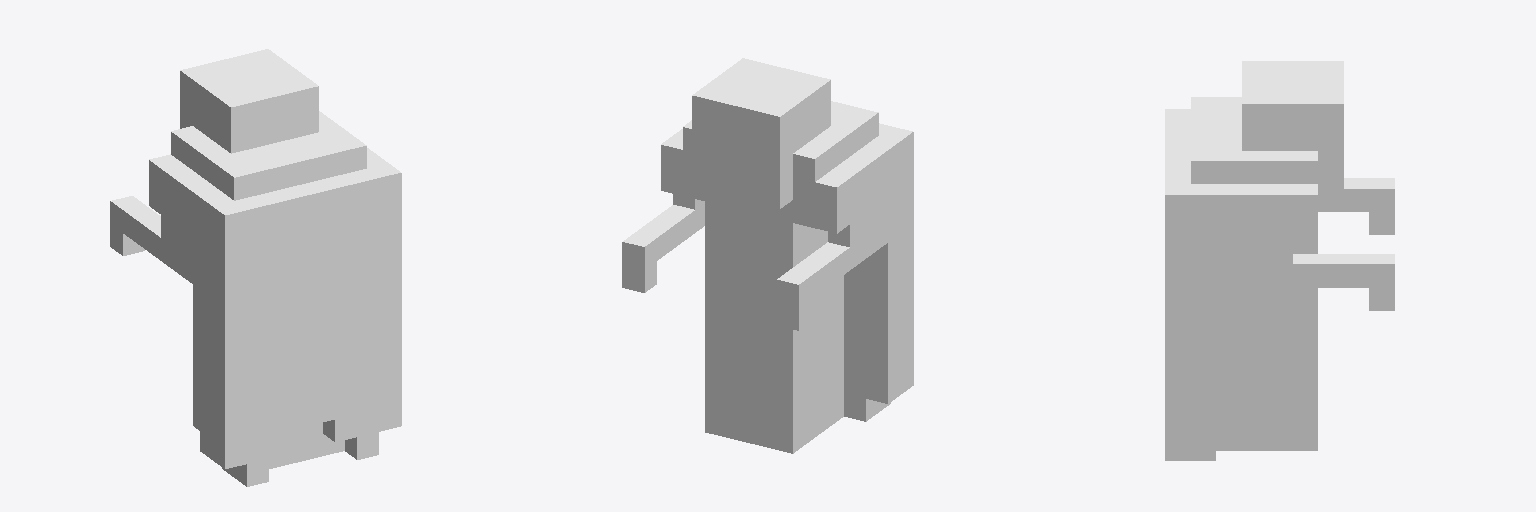
The model's file is vampire.obj.
3 renders of one model, left to right at view 1: azimuth 30°, elevation 25°; view 2: azimuth 150°, elevation 25°; view 3: azimuth 270°, elevation 25°, orthographic.
Bounding box in the file's own units: 8 × 15 × 9.